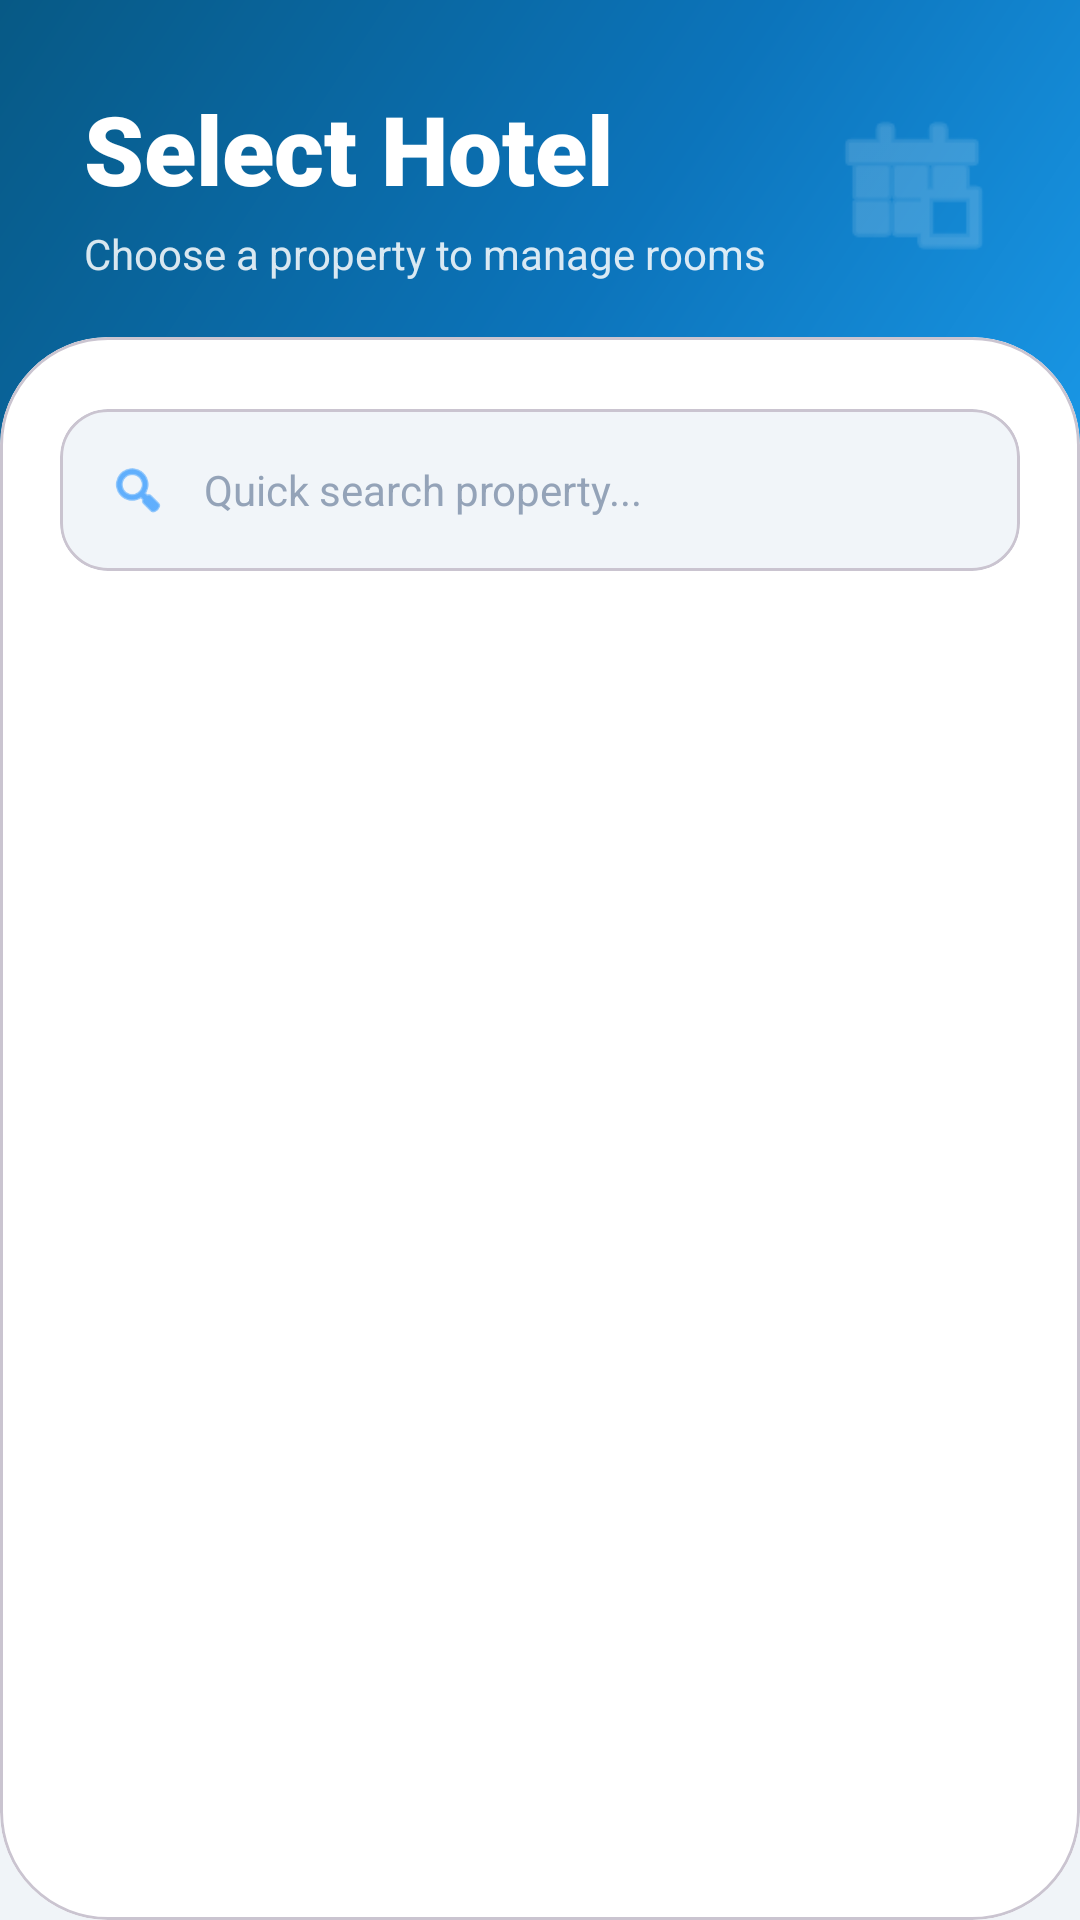

Screen size 1080w x 1920h. Icon name, then its center in pixels as [x,y]:
today: [914,186]
